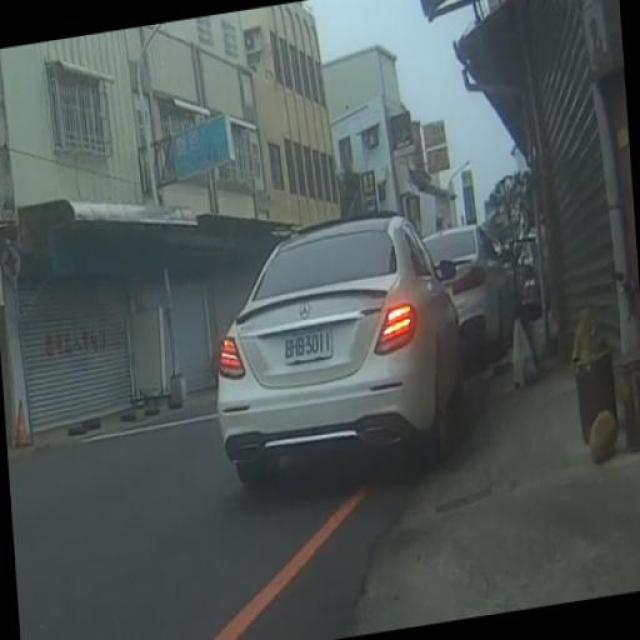illegalparking: (201, 207, 522, 524)
